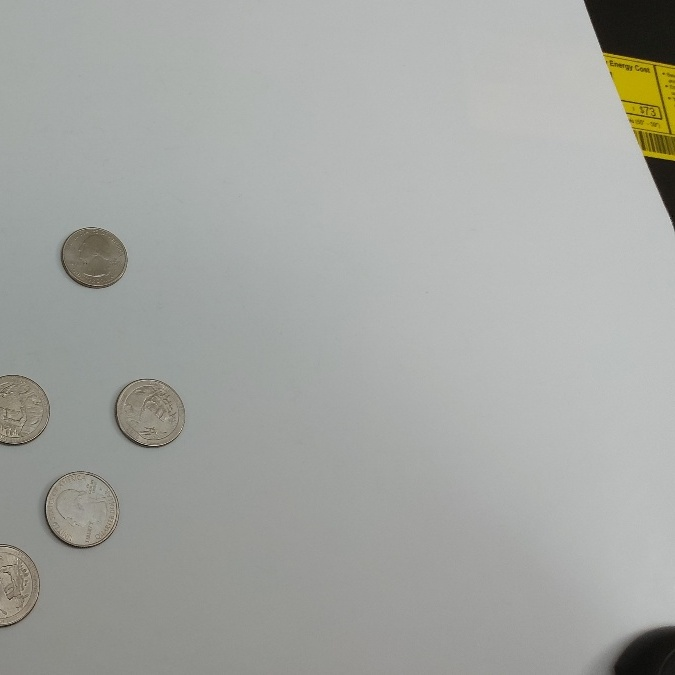coin_quarter: (37, 471, 126, 551), (109, 374, 188, 452), (56, 220, 135, 292)
